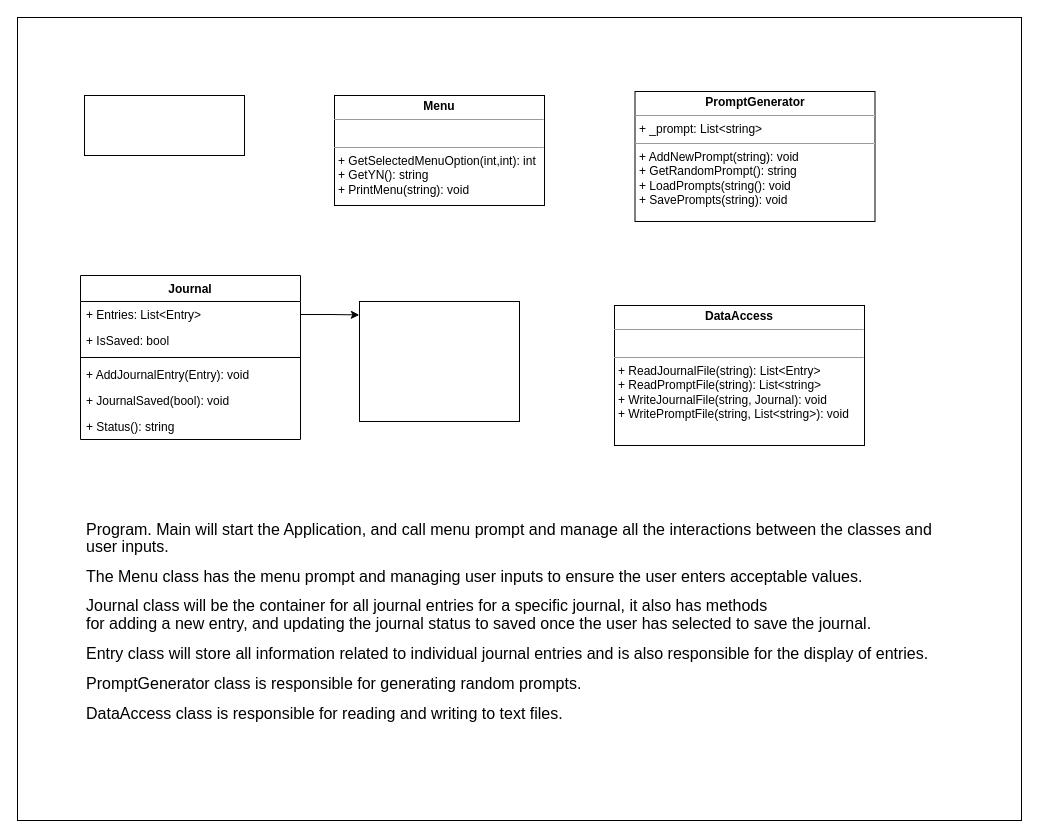
The diagram is 1039 pixels wide and 838 high, and some of its shapes have lost their labels. The shapes that lost their labels are listed below. From the top down, each one's centre as x and y in pixels, then its label:
At point 164,125: "Program + Main(string[ ]): void".
At point 439,361: "Entry + Date: string + Prompt: string + Response: string + Display(): string".
